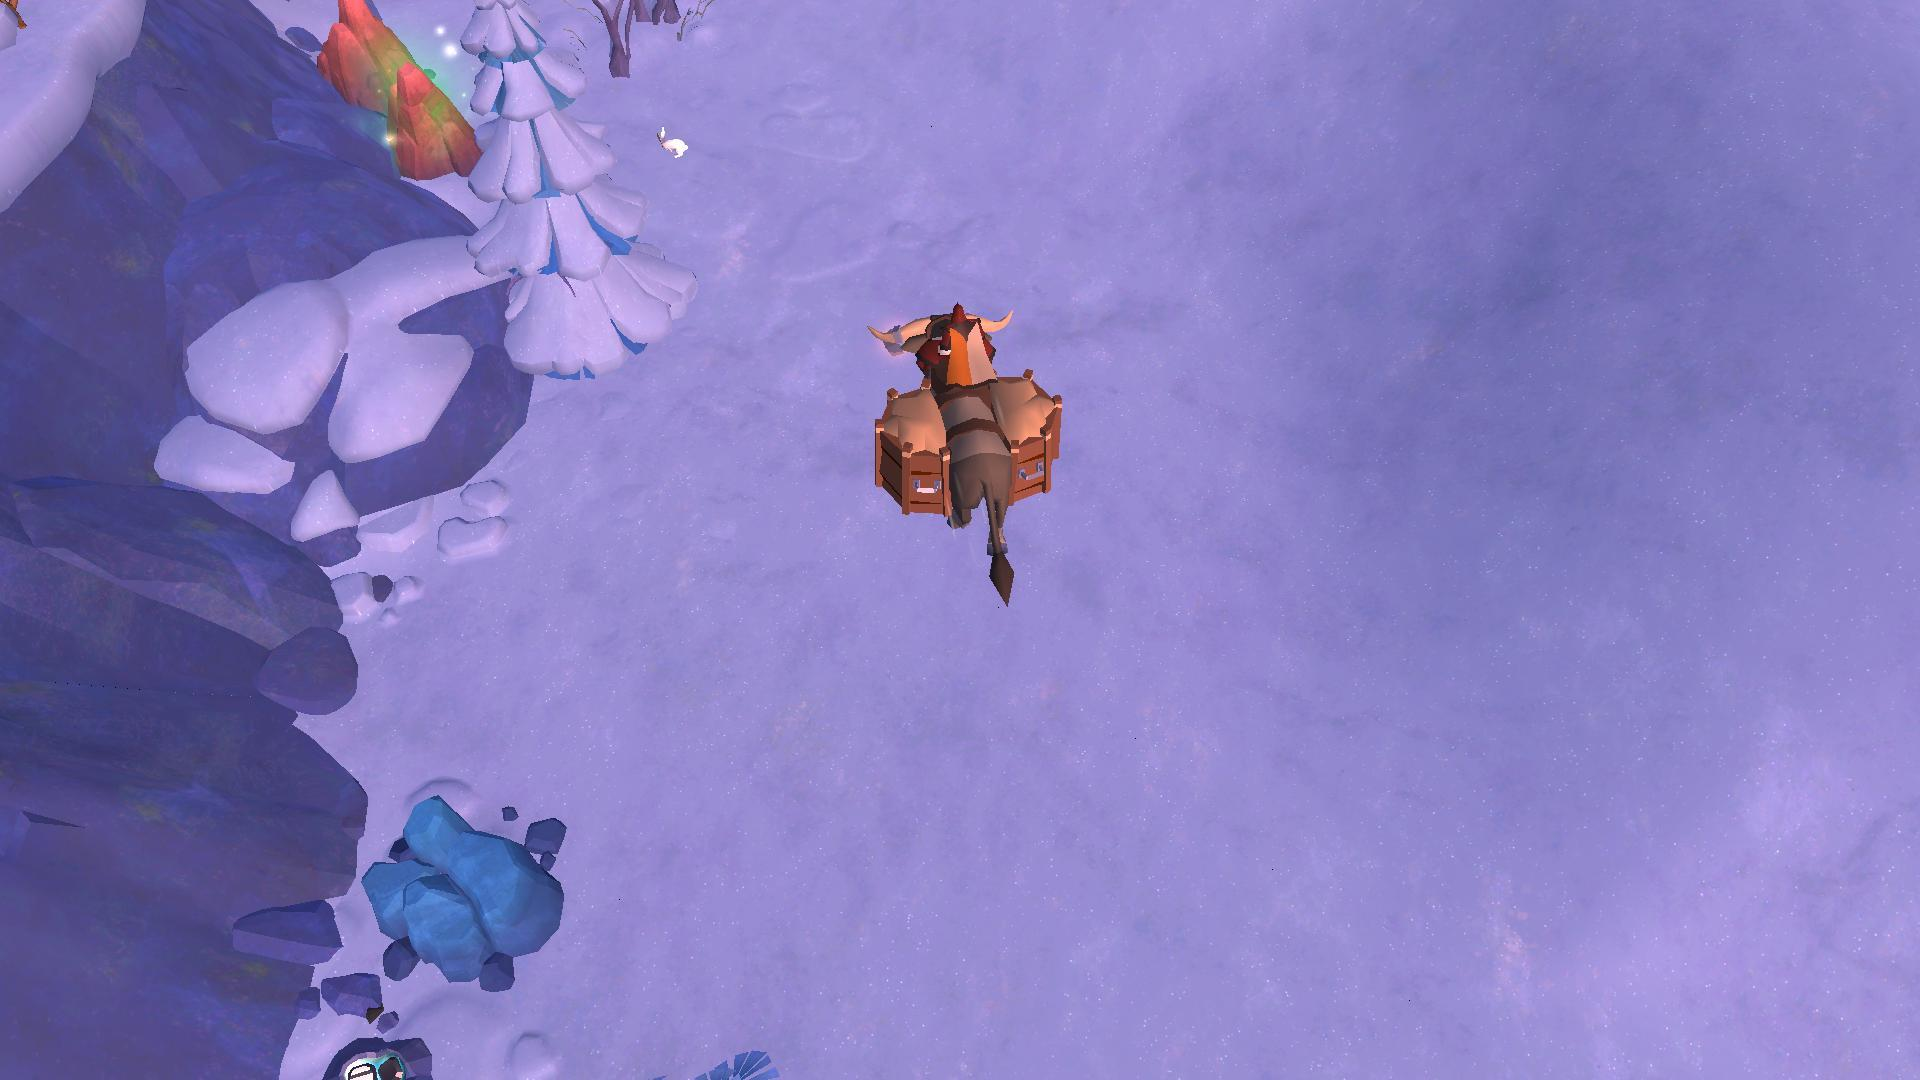rock_t4: (352, 789, 576, 996)
rock_t5: (310, 0, 423, 121), (373, 63, 487, 182)
